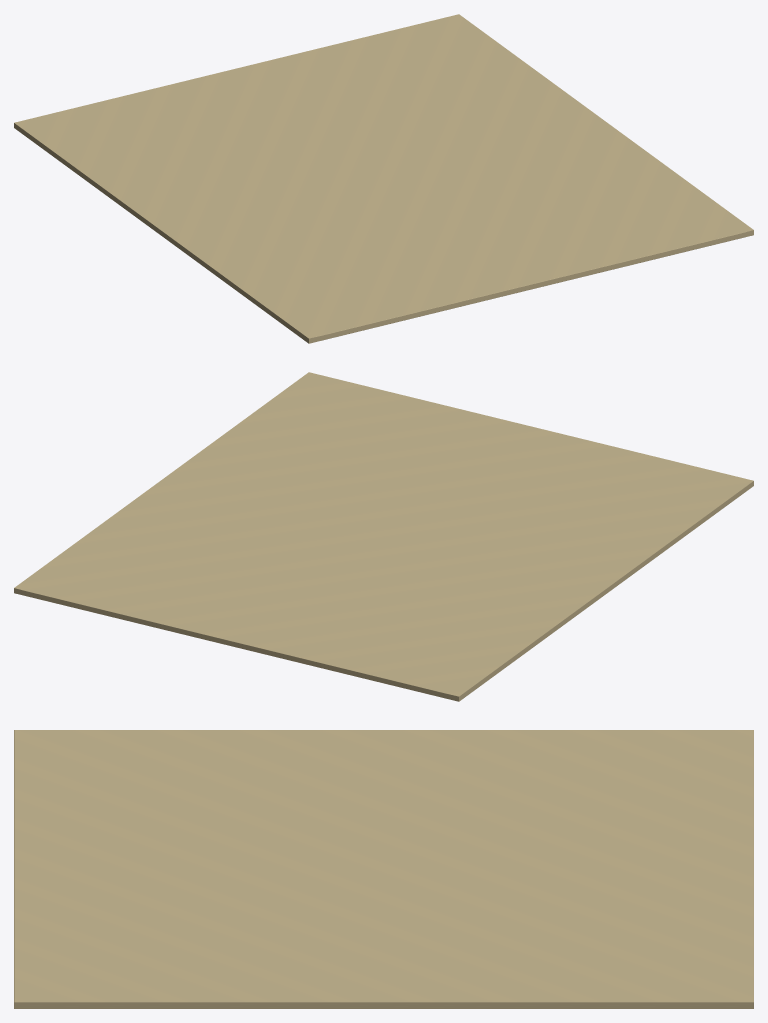
File: SM_WC_CourtyardFoundation.fbx
3 views of the same model, one above another, from view 1: azimuth 30°, elevation 25°; view 2: azimuth 150°, elevation 25°; view 3: azimuth 270°, elevation 25° (orthographic). The views are drawn at different scales.
Visible parts, largest first — view 1: SM_WC_CourtyardFoundation; view 2: SM_WC_CourtyardFoundation; view 3: SM_WC_CourtyardFoundation.
Part boxes in pixels (bbox=[...]): SM_WC_CourtyardFoundation: bbox=[14, 14, 753, 343]; SM_WC_CourtyardFoundation: bbox=[14, 372, 753, 701]; SM_WC_CourtyardFoundation: bbox=[14, 730, 753, 1008].
Size of the model in its own units: 27 by 31 by 0.3.
